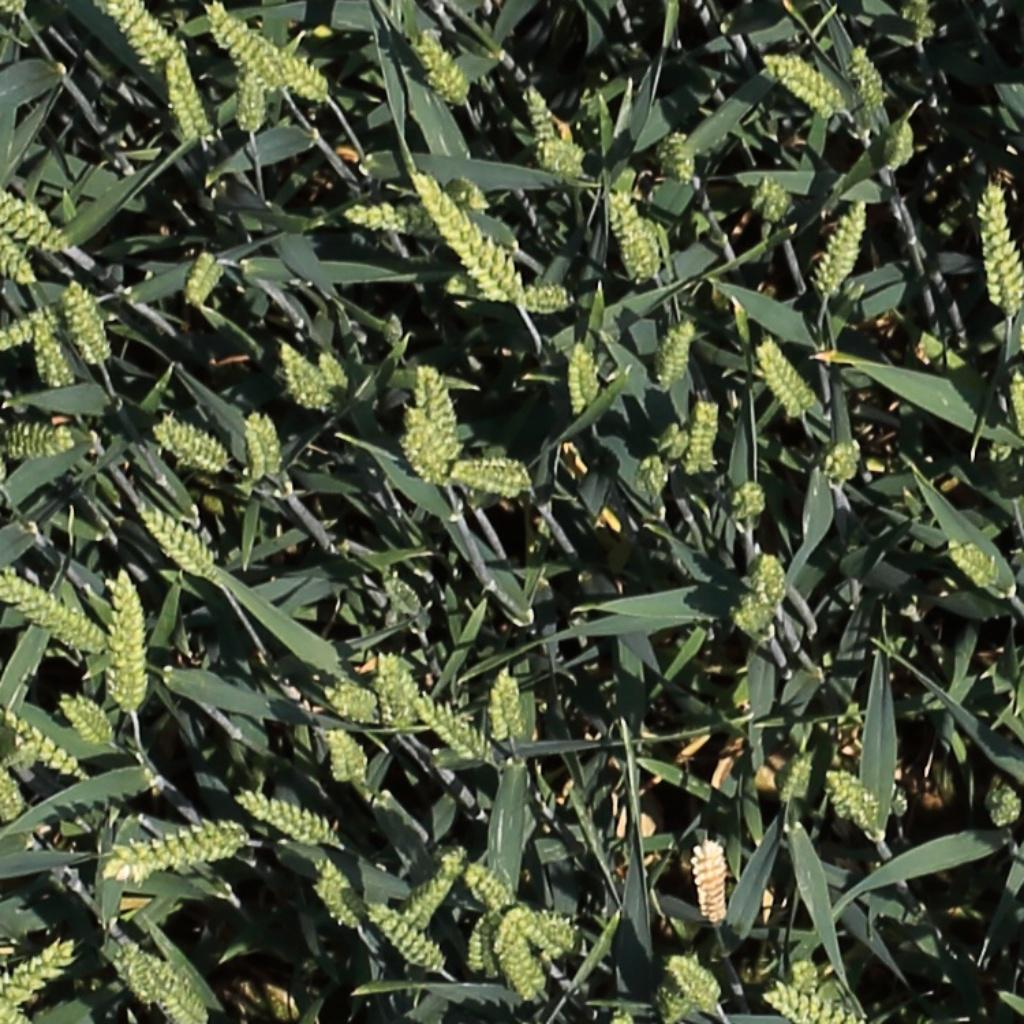0-0: (415, 167, 525, 307), (98, 815, 248, 887), (0, 572, 106, 652), (757, 963, 875, 1023), (0, 700, 83, 779), (367, 899, 449, 976), (414, 687, 496, 764), (147, 950, 227, 1024), (136, 503, 215, 577), (978, 181, 1021, 316), (204, 14, 284, 82), (821, 192, 873, 294), (0, 169, 66, 249), (756, 337, 819, 420), (607, 187, 662, 282), (412, 24, 473, 109), (106, 0, 181, 69), (240, 794, 337, 847), (274, 335, 337, 413), (307, 857, 368, 936), (417, 357, 460, 468), (61, 275, 113, 365), (111, 573, 144, 712), (165, 50, 211, 147), (441, 454, 538, 500), (827, 770, 888, 843), (0, 942, 76, 999), (768, 57, 847, 111), (521, 80, 572, 162), (400, 405, 450, 484), (154, 419, 230, 469), (687, 839, 727, 933), (562, 329, 603, 420), (501, 927, 547, 1008), (0, 297, 75, 345), (28, 314, 73, 393), (116, 939, 162, 1014), (375, 652, 415, 737), (2, 416, 77, 460), (404, 872, 456, 935), (487, 661, 525, 747), (846, 38, 892, 109), (57, 693, 114, 750), (663, 952, 721, 1008), (659, 315, 700, 394), (460, 861, 516, 918), (273, 48, 331, 100), (510, 912, 577, 957), (324, 723, 371, 787), (244, 408, 282, 484), (379, 567, 428, 625), (776, 749, 819, 815), (688, 393, 720, 480), (182, 244, 222, 312), (344, 206, 441, 234), (234, 76, 274, 140), (883, 111, 920, 177), (947, 543, 1002, 587), (660, 125, 699, 187), (0, 214, 34, 285), (327, 677, 379, 720), (260, 974, 303, 1024), (314, 342, 353, 397), (518, 282, 573, 321), (824, 435, 862, 490), (757, 169, 791, 228), (0, 759, 29, 824), (728, 593, 770, 637), (988, 776, 1019, 834), (640, 447, 670, 505), (539, 141, 588, 176), (735, 476, 767, 528), (907, 0, 936, 47), (0, 981, 23, 1024)
